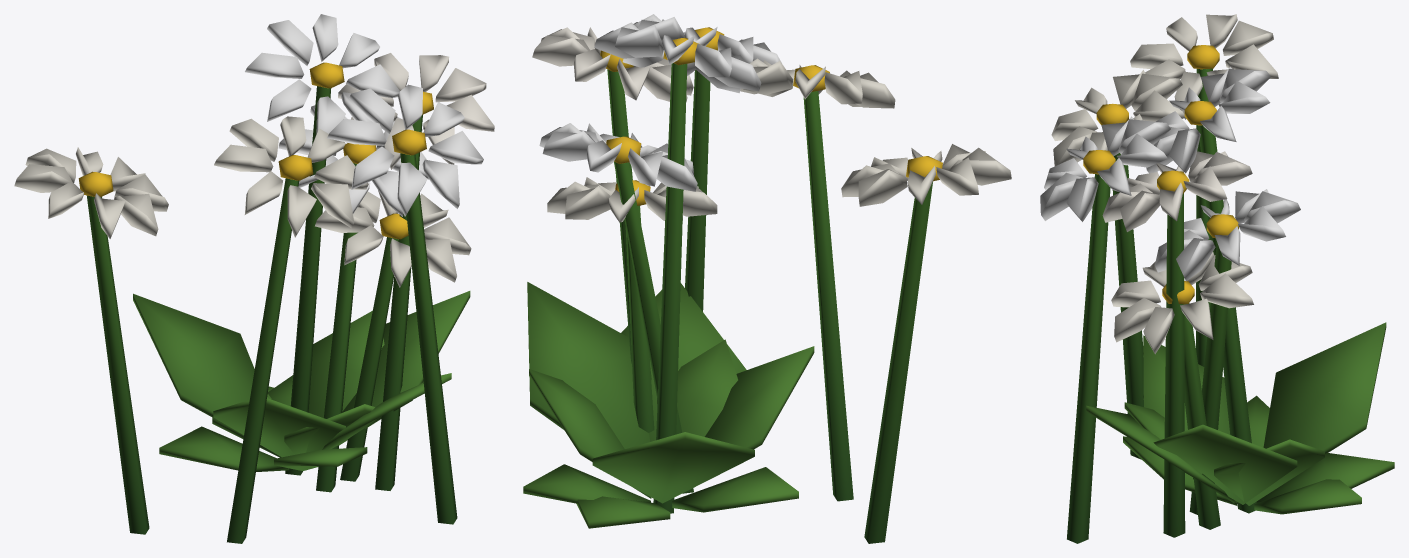
The model's file is flowers_daisy_lod1.glb.
The picture shows the model from 3 angles, left to right: view 1: azimuth 30°, elevation 25°; view 2: azimuth 150°, elevation 25°; view 3: azimuth 270°, elevation 25°; orthographic projection. The views are drawn at different scales.
Parts seen in each view (by area): view 1: flowers_daisy_lod1; view 2: flowers_daisy_lod1; view 3: flowers_daisy_lod1.
Boxes of the visible parts, bbox=[...] form: flowers_daisy_lod1: bbox=[14, 14, 494, 543]; flowers_daisy_lod1: bbox=[523, 14, 1011, 543]; flowers_daisy_lod1: bbox=[1040, 14, 1394, 543].
Bounding box in the file's own units: 0.4924 × 0.4786 × 0.3525.
